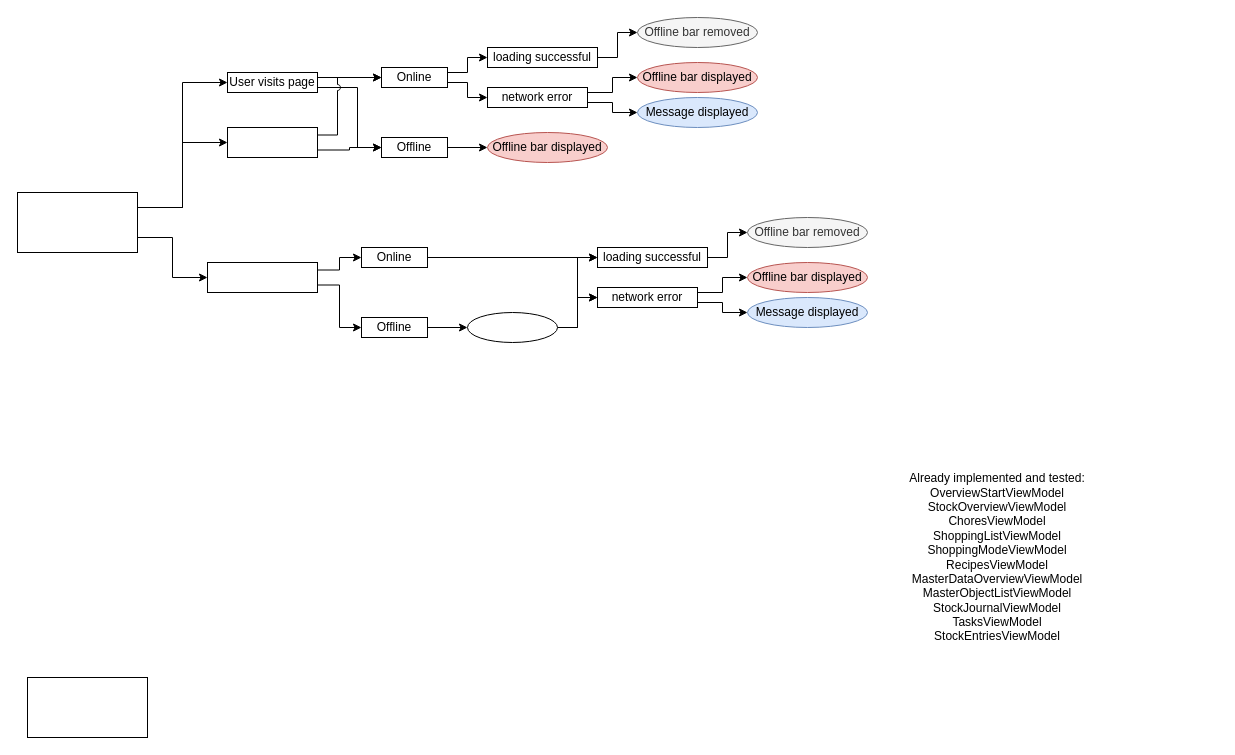
Some shapes in this 1235 by 755 pixel diagram are drawn without their labels. Here are the shapes that lost their labels. From the top down, the centre of each, then its label:
At [272,142]: "Network state changes".
At [77,222]: "page which should be available offline".
At [262,277]: "User swipes down (reload)".
At [512,327]: "Force reload".
At [87,707]: "page which should be blocked offline (form)".
